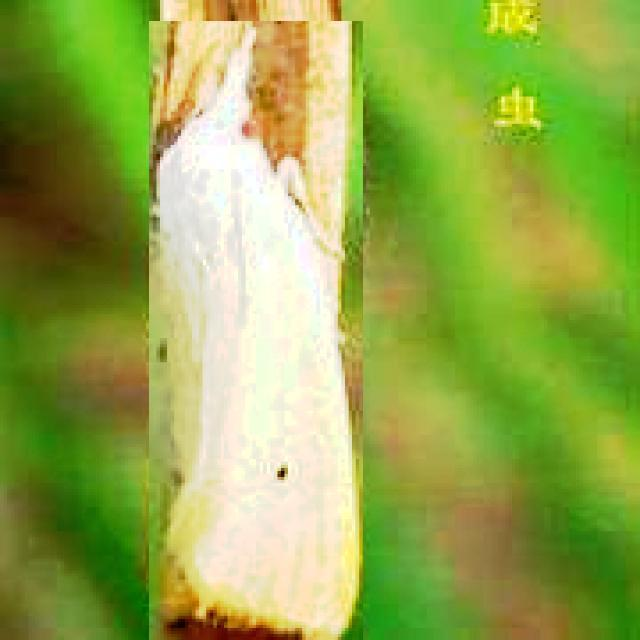stem-borer: (149, 21, 363, 640)
